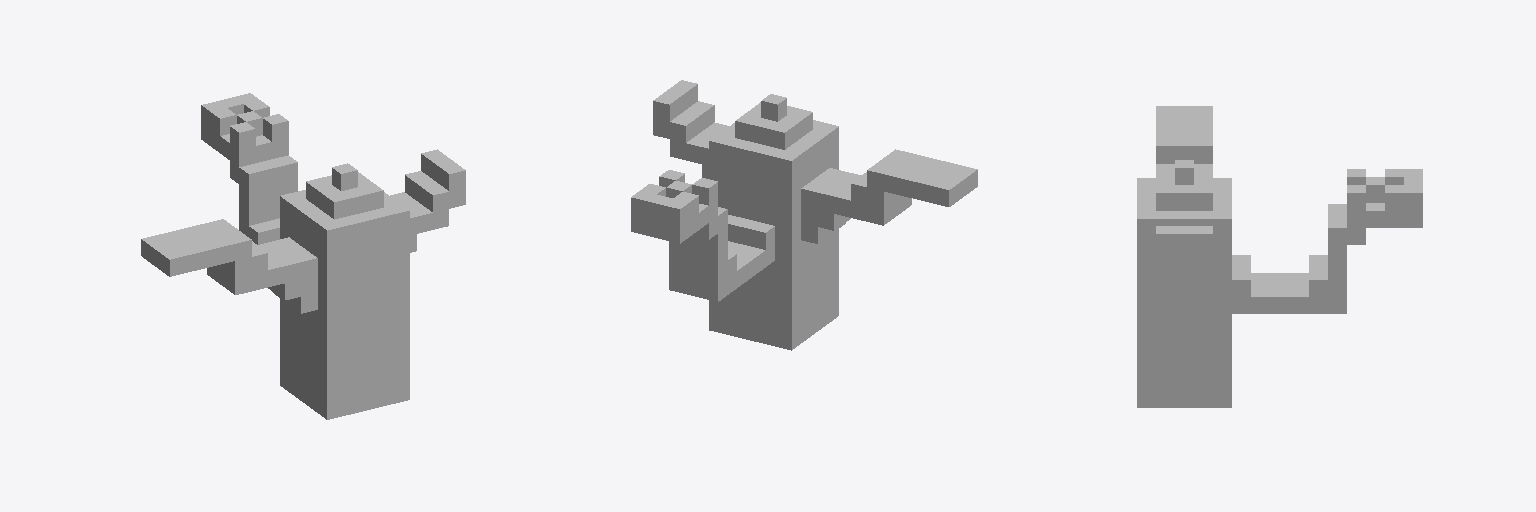
Rendered from кактус 3 цветущий.obj.
The picture shows the model from 3 angles: view 1: azimuth 30°, elevation 25°; view 2: azimuth 150°, elevation 25°; view 3: azimuth 270°, elevation 25°; orthographic projection.
Parts seen in each view (by area): view 1: object 1; view 2: object 1; view 3: object 1.
Part boxes in pixels (bbox=[...]): object 1: bbox=[141, 93, 465, 419]; object 1: bbox=[631, 80, 977, 350]; object 1: bbox=[1137, 106, 1422, 407].
Bounding box in the file's own units: 1.8 × 1.3 × 1.5.